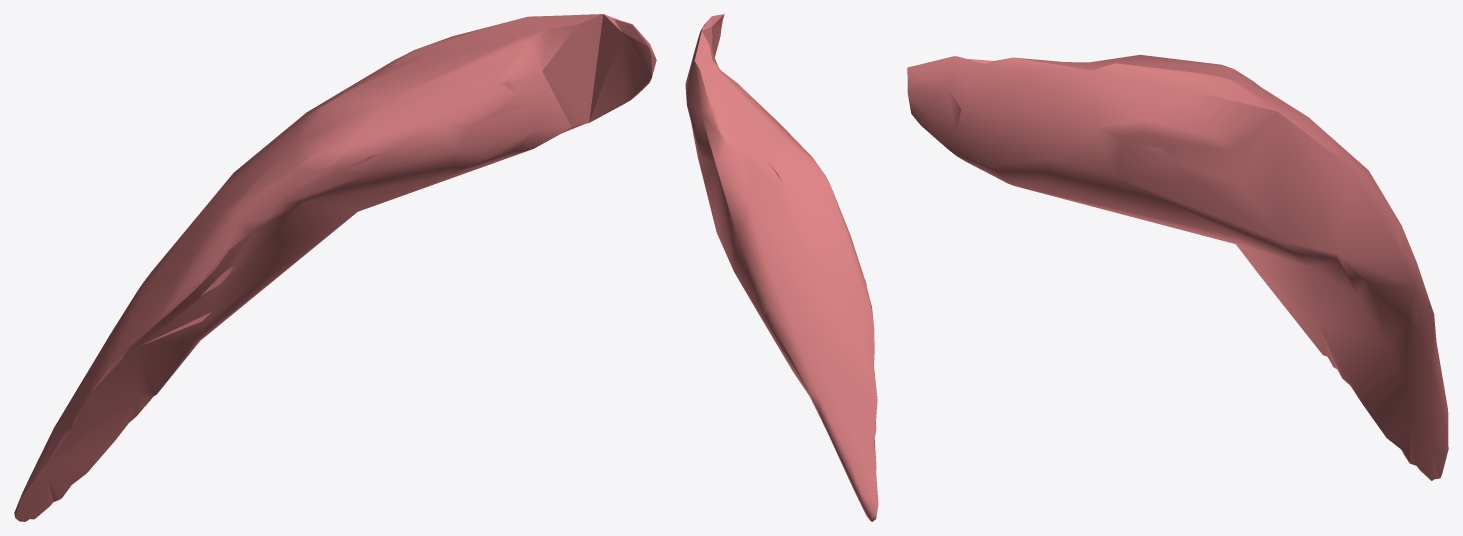
3 views of the same model, side by side, from view 1: azimuth 30°, elevation 25°; view 2: azimuth 150°, elevation 25°; view 3: azimuth 270°, elevation 25° (orthographic). The views are drawn at different scales.
Parts seen in each view (by area): view 1: FJ1508M; view 2: FJ1508M; view 3: FJ1508M.
Boxes of the visible parts, left/top/right/bottom form: FJ1508M: left=14, top=14, right=656, bottom=521; FJ1508M: left=685, top=14, right=878, bottom=521; FJ1508M: left=907, top=54, right=1448, bottom=480.
Bounding box in the file's own units: 0.0847 × 0.0958 × 0.0675.
